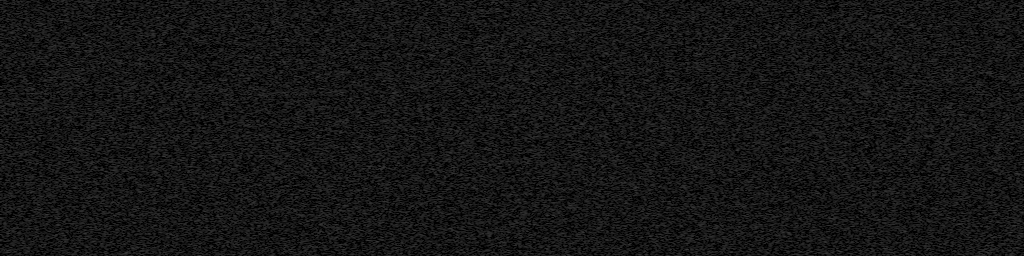wv_lsb: (324, 19, 330, 256), (346, 155, 351, 223), (346, 96, 351, 154), (346, 24, 351, 79), (336, 133, 341, 166), (346, 224, 351, 255), (336, 53, 341, 84), (346, 1, 351, 23), (336, 112, 341, 132), (337, 180, 341, 202), (337, 1, 341, 20), (346, 80, 351, 95), (337, 35, 341, 52), (337, 21, 341, 34), (337, 167, 341, 179), (325, 1, 329, 10), (337, 247, 341, 256), (337, 219, 341, 227), (337, 85, 341, 93), (337, 104, 341, 111), (337, 228, 341, 234), (337, 235, 341, 240), (337, 243, 341, 246), (337, 211, 341, 214), (337, 207, 341, 210), (337, 203, 341, 206), (337, 99, 340, 103), (337, 94, 340, 98), (325, 15, 329, 18)
